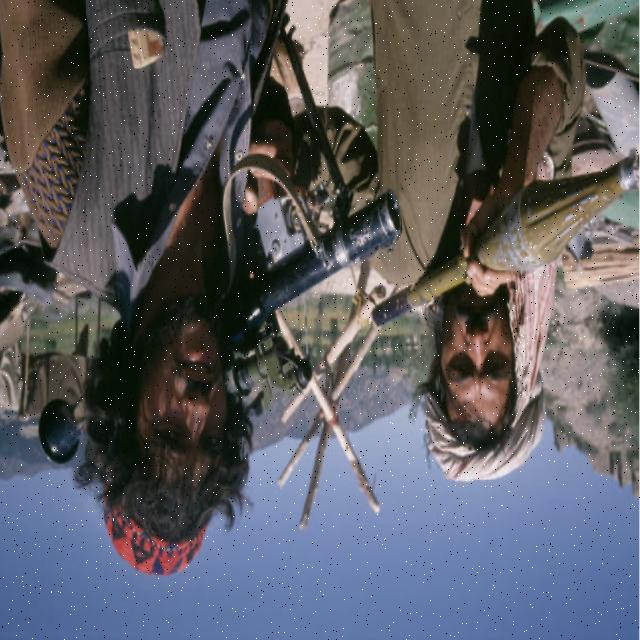bazooka: (29, 166, 439, 480)
